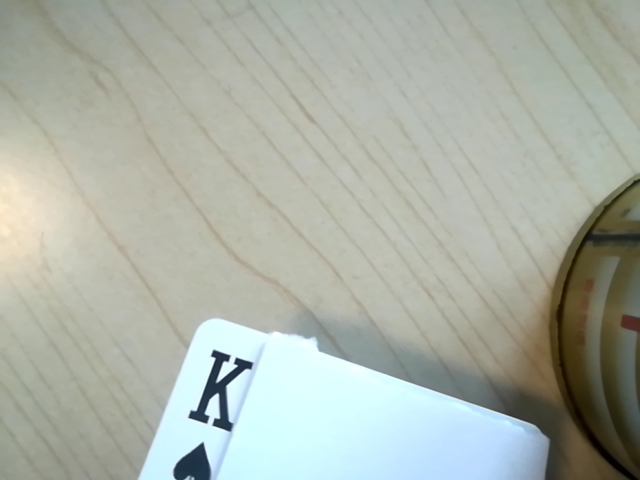ht k: (166, 339, 260, 476)
